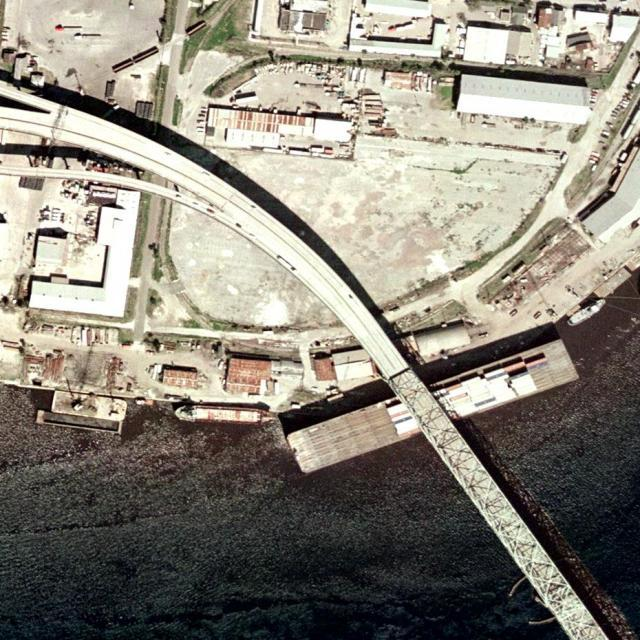Container Ship: (281, 334, 582, 478)
Other Ship: (175, 403, 276, 427)
